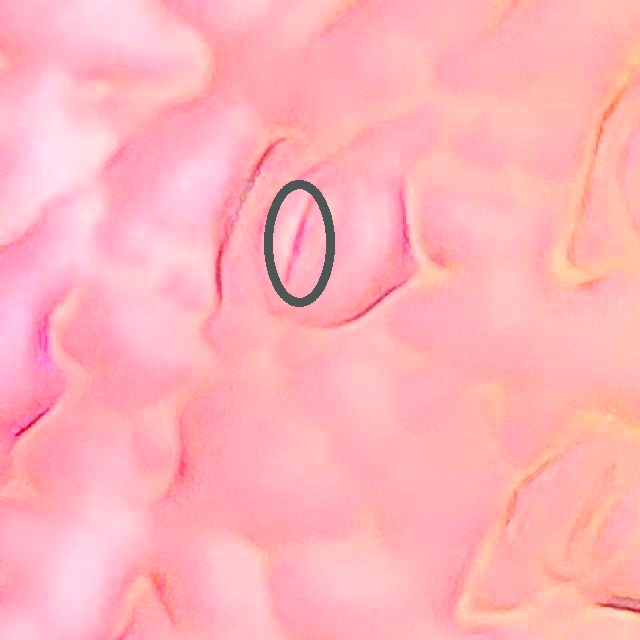open: (263, 180, 334, 306)
